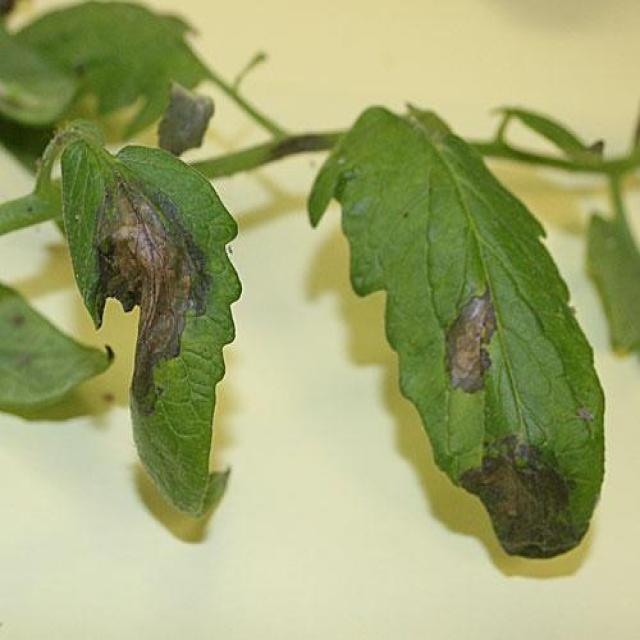Late Blight: (303, 100, 607, 566), (59, 119, 239, 516)
